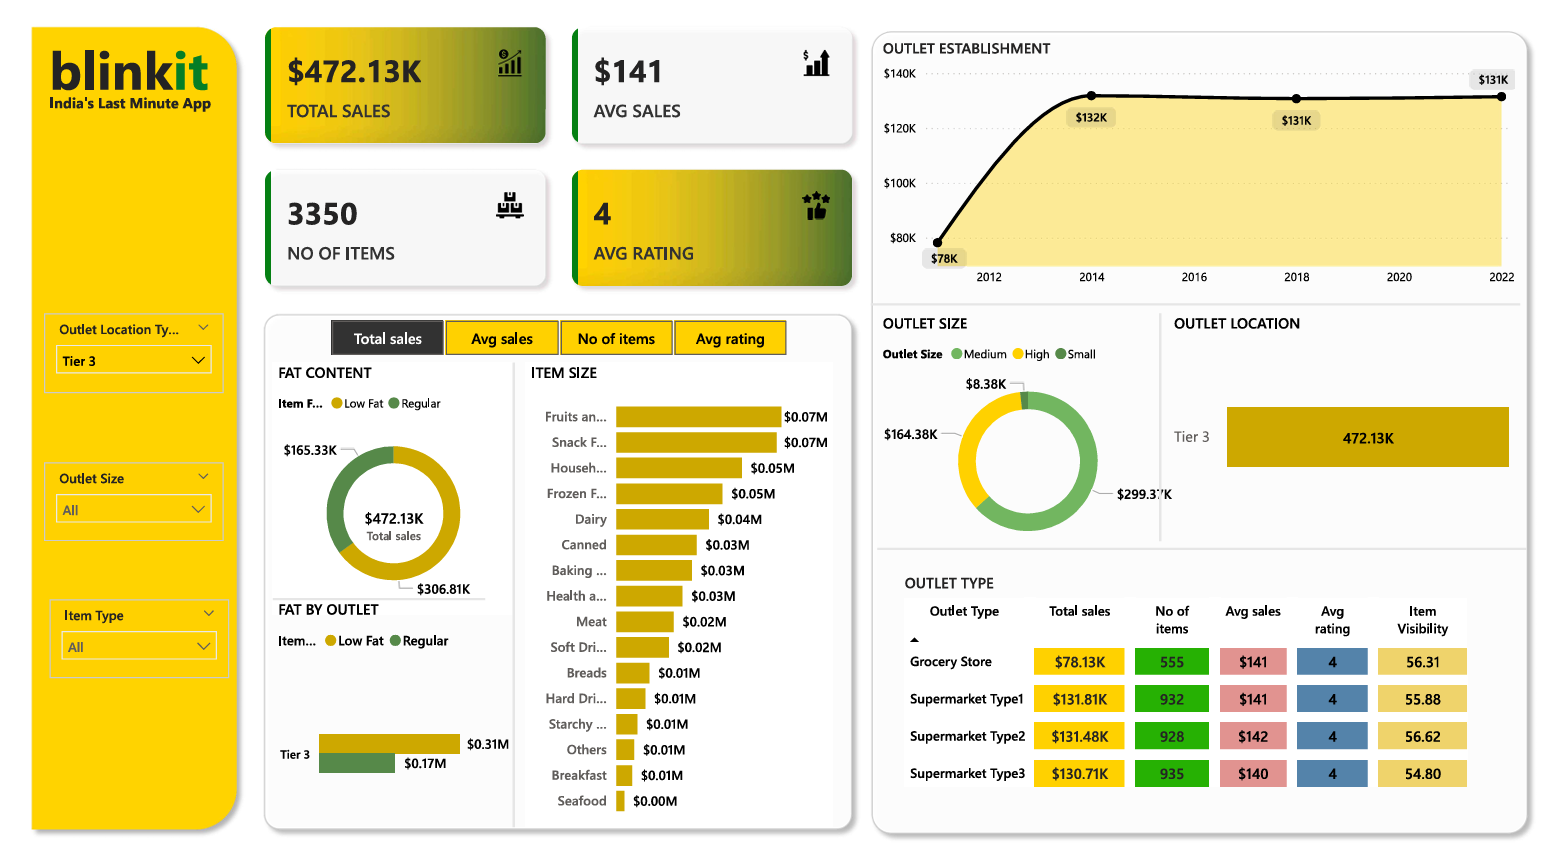

This screenshot's page, from the dashboard's own definition file:
{"tool":"powerbi","page":{"name":"Dashboard","canvas":[1400,800],"ordinal":0},"visuals":[{"type":"shape","box":[8.5,20.2,205,750],"z":0},{"type":"textbox","box":[28.7,28.7,163.8,85.1],"z":1000},{"type":"textbox","box":[28.7,84,173.4,29.8],"z":2000},{"type":"cardVisual","fields":{"Data":["BlinkIT Grocery Data.Total sales","BlinkIT Grocery Data.Avg sales","BlinkIT Grocery Data.No of items","BlinkIT Grocery Data.Avg rating"]},"box":[213.8,11.7,570.2,270.2],"z":3000},{"type":"shape","box":[221.3,281.9,554.3,488.3],"z":4000},{"type":"donutChart","title":"FAT CONTENT","fields":{"Y":["BlinkIT Grocery Data.Total sales"],"Category":["BlinkIT Grocery Data.Item Fat Content"]},"box":[238.3,335.1,220.2,229.8],"z":5000},{"type":"slicer","fields":{"Values":["Metrics.Metrics"]},"box":[266,290.4,464.9,44.7],"z":6000},{"type":"cardVisual","fields":{"Data":["BlinkIT Grocery Data.Total sales"]},"box":[302.1,450,93.6,55.3],"z":7000},{"type":"clusteredBarChart","title":"FAT BY OUTLET","fields":{"Y":["BlinkIT Grocery Data.Total sales"],"Category":["BlinkIT Grocery Data.Outlet Location Type"],"Series":["BlinkIT Grocery Data.Item Fat Content"]},"box":[238.3,551.1,220.2,229.8],"z":8000},{"type":"shape","box":[238.3,516,193.6,70.2],"z":9000},{"type":"shape","box":[435.1,335.1,45.7,423.4],"z":10000},{"type":"barChart","title":"ITEM SIZE","fields":{"Y":["BlinkIT Grocery Data.Total sales"],"Category":["BlinkIT Grocery Data.Item Type"]},"box":[469.1,335.1,280.9,423.4],"z":11000},{"type":"shape","box":[775.5,24.5,617,750],"z":12000},{"type":"lineChart","title":"OUTLET ESTABLISHMENT","fields":{"Category":["BlinkIT Grocery Data.Outlet Establishment Year"],"Y":["BlinkIT Grocery Data.Total sales"]},"box":[790.4,39.4,586.2,235.1],"z":13000},{"type":"shape","box":[784,246.8,592.6,70.2],"z":14000},{"type":"donutChart","title":"OUTLET SIZE","fields":{"Y":["BlinkIT Grocery Data.Total sales"],"Category":["BlinkIT Grocery Data.Outlet Size"]},"box":[790.4,290.4,275,225],"z":15000},{"type":"shape","box":[1041.5,290.4,14.9,207.4],"z":16000},{"type":"funnel","title":"OUTLET LOCATION","fields":{"Y":["Sum(BlinkIT Grocery Data.Sales)"],"Category":["BlinkIT Grocery Data.Outlet Location Type"]},"box":[1056.4,290.4,320.2,207.4],"z":17000},{"type":"shape","box":[790.4,470.2,592.6,70.2],"z":18000},{"type":"pivotTable","title":"OUTLET TYPE","fields":{"Rows":["BlinkIT Grocery Data.Outlet Type"],"Values":["BlinkIT Grocery Data.Total sales","BlinkIT Grocery Data.No of items","BlinkIT Grocery Data.Avg sales","BlinkIT Grocery Data.Avg rating","Sum(BlinkIT Grocery Data.Item Visibility)"]},"box":[809.6,526.6,548.9,242.6],"z":19000},{"type":"slicer","fields":{"Values":["BlinkIT Grocery Data.Outlet Location Type"]},"box":[28.7,290.4,163.8,72.3],"z":20000},{"type":"slicer","fields":{"Values":["BlinkIT Grocery Data.Outlet Size"]},"box":[28.7,425.5,163.8,72.3],"z":21000},{"type":"slicer","fields":{"Values":["BlinkIT Grocery Data.Item Type"]},"box":[34,551.1,163.8,72.3],"z":22000}]}

Visuals, with their boxes on the page's 1400x800 design canvas (x1, y1, x2, y2). These are canvas units, not pixel positions in the 1546x856 screenshot, which may show the page scaled, cropped or inside an application window:
shape: {"x1": 8, "y1": 20, "x2": 214, "y2": 770}
textbox: {"x1": 29, "y1": 29, "x2": 192, "y2": 114}
textbox: {"x1": 29, "y1": 84, "x2": 202, "y2": 114}
cardVisual - BlinkIT Grocery Data.Total sales x BlinkIT Grocery Data.Avg sales: {"x1": 214, "y1": 12, "x2": 784, "y2": 282}
shape: {"x1": 221, "y1": 282, "x2": 776, "y2": 770}
"FAT CONTENT" donutChart: {"x1": 238, "y1": 335, "x2": 458, "y2": 565}
slicer - Metrics.Metrics: {"x1": 266, "y1": 290, "x2": 731, "y2": 335}
cardVisual - BlinkIT Grocery Data.Total sales: {"x1": 302, "y1": 450, "x2": 396, "y2": 505}
"FAT BY OUTLET" clusteredBarChart: {"x1": 238, "y1": 551, "x2": 458, "y2": 781}
shape: {"x1": 238, "y1": 516, "x2": 432, "y2": 586}
shape: {"x1": 435, "y1": 335, "x2": 481, "y2": 758}
"ITEM SIZE" barChart: {"x1": 469, "y1": 335, "x2": 750, "y2": 758}
shape: {"x1": 776, "y1": 24, "x2": 1392, "y2": 774}
"OUTLET ESTABLISHMENT" lineChart: {"x1": 790, "y1": 39, "x2": 1377, "y2": 274}
shape: {"x1": 784, "y1": 247, "x2": 1377, "y2": 317}
"OUTLET SIZE" donutChart: {"x1": 790, "y1": 290, "x2": 1065, "y2": 515}
shape: {"x1": 1042, "y1": 290, "x2": 1056, "y2": 498}
"OUTLET LOCATION" funnel: {"x1": 1056, "y1": 290, "x2": 1377, "y2": 498}
shape: {"x1": 790, "y1": 470, "x2": 1383, "y2": 540}
"OUTLET TYPE" pivotTable: {"x1": 810, "y1": 527, "x2": 1358, "y2": 769}
slicer - BlinkIT Grocery Data.Outlet Location Type: {"x1": 29, "y1": 290, "x2": 192, "y2": 363}
slicer - BlinkIT Grocery Data.Outlet Size: {"x1": 29, "y1": 426, "x2": 192, "y2": 498}
slicer - BlinkIT Grocery Data.Item Type: {"x1": 34, "y1": 551, "x2": 198, "y2": 623}
